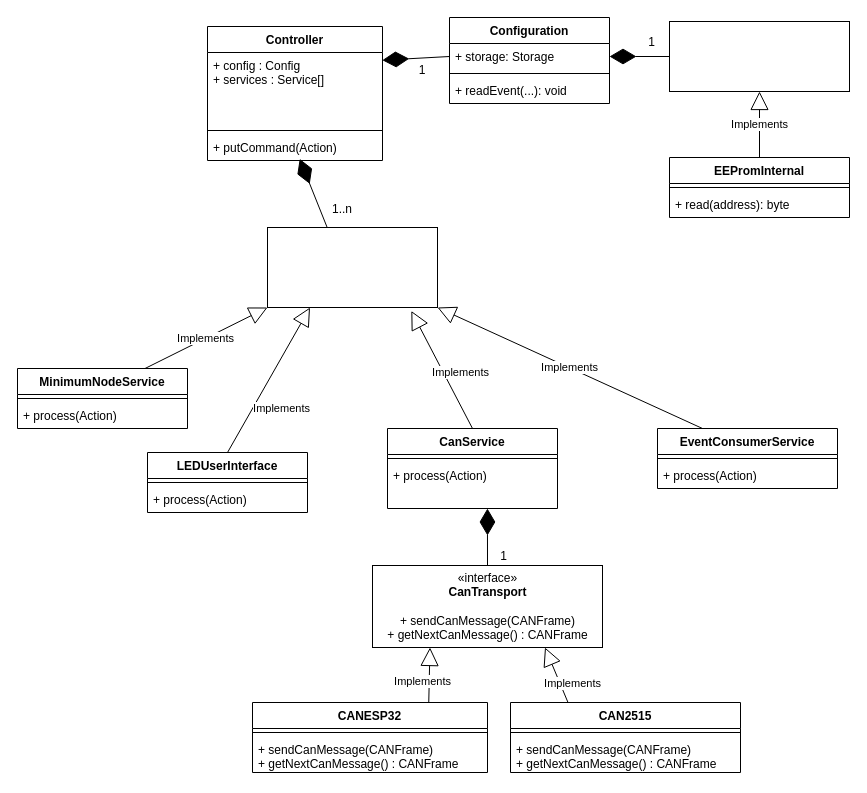
The diagram is 867 pixels wide and 793 high, and some of its shapes have lost their labels. The shapes that lost their labels are listed below. From the top down, each one's centre as x and y in pixels, then its label:
the point at 759,56: «interface» Storage + read(address): byte
the point at 352,267: «interface» Service + process( Action )
